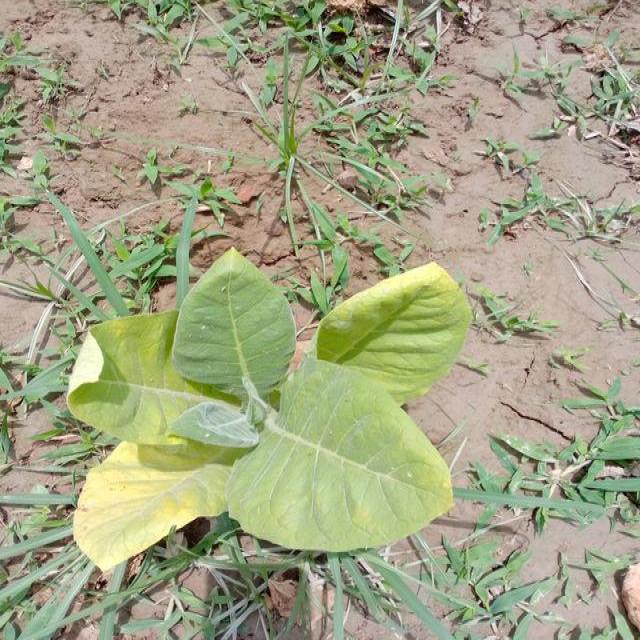crop: (65, 254, 460, 566)
